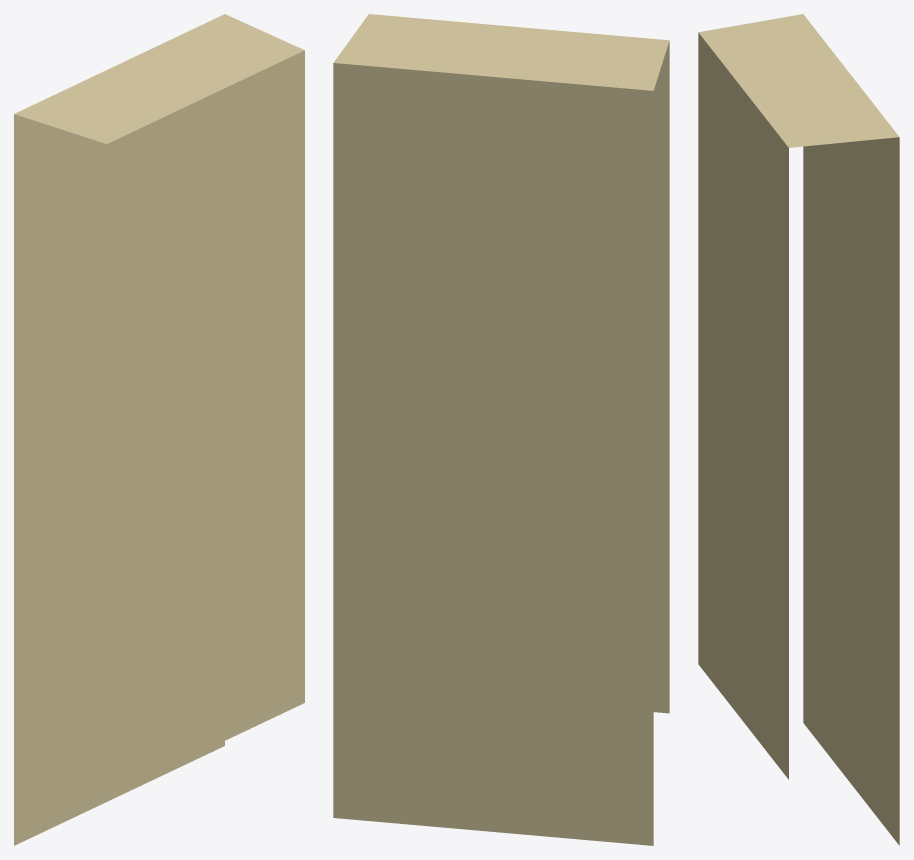
The model's file is wall18.fbx.
The picture shows the model from 3 angles, left to right: view 1: azimuth 30°, elevation 25°; view 2: azimuth 150°, elevation 25°; view 3: azimuth 270°, elevation 25°; orthographic projection. The views are drawn at different scales.
Visible parts, largest first — view 1: duvar.019; view 2: duvar.019; view 3: duvar.019.
Boxes of the visible parts, x1,y1,x2,y2 form: duvar.019: [14, 14, 304, 845]; duvar.019: [333, 14, 669, 845]; duvar.019: [698, 14, 899, 845].
Bounding box in the file's own units: 18.24 × 44.99 × 11.58.
